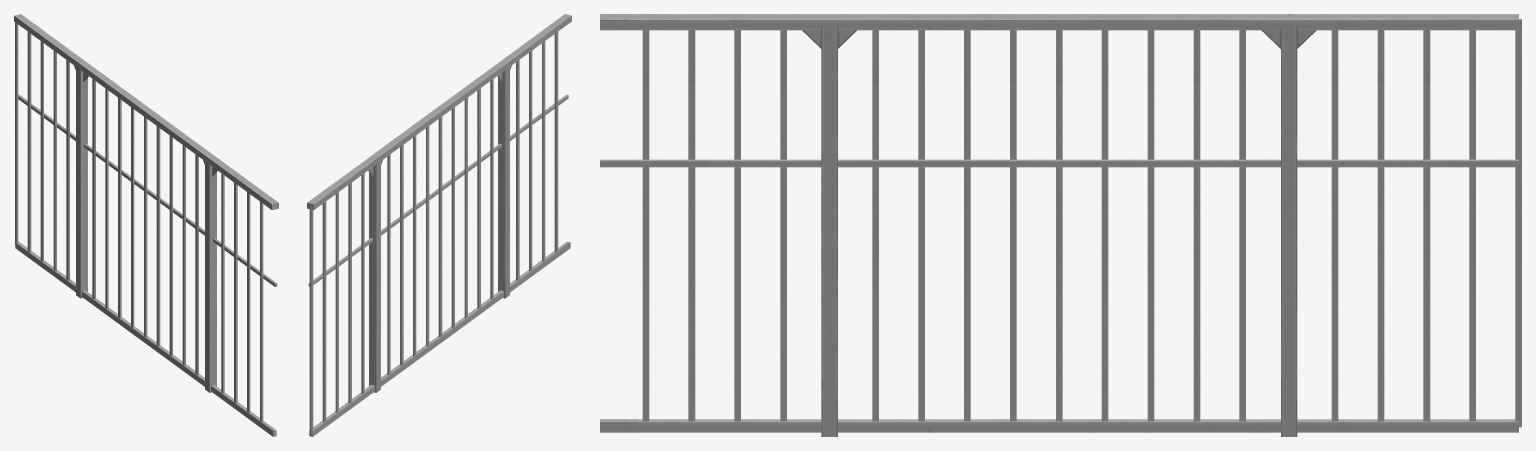
File: MB_Fence_F_4m.fbx
3 views of the same model, side by side, from view 1: azimuth 30°, elevation 25°; view 2: azimuth 150°, elevation 25°; view 3: azimuth 270°, elevation 25° (orthographic). The views are drawn at different scales.
Parts seen in each view (by area): view 1: MB_Fence_F_4m_LOD0; view 2: MB_Fence_F_4m_LOD0; view 3: MB_Fence_F_4m_LOD0.
Part boxes in pixels (left/top/right/bottom): MB_Fence_F_4m_LOD0: left=14, top=14, right=278, bottom=436; MB_Fence_F_4m_LOD0: left=307, top=14, right=571, bottom=436; MB_Fence_F_4m_LOD0: left=600, top=14, right=1521, bottom=436.
Size of what is drawn, in the model's own units: 6.53 by 200 by 401.
